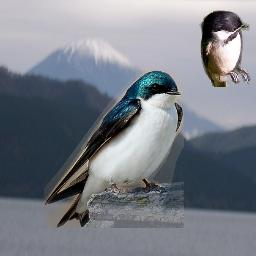Swallow: (44, 70, 184, 228), (199, 8, 252, 87)
